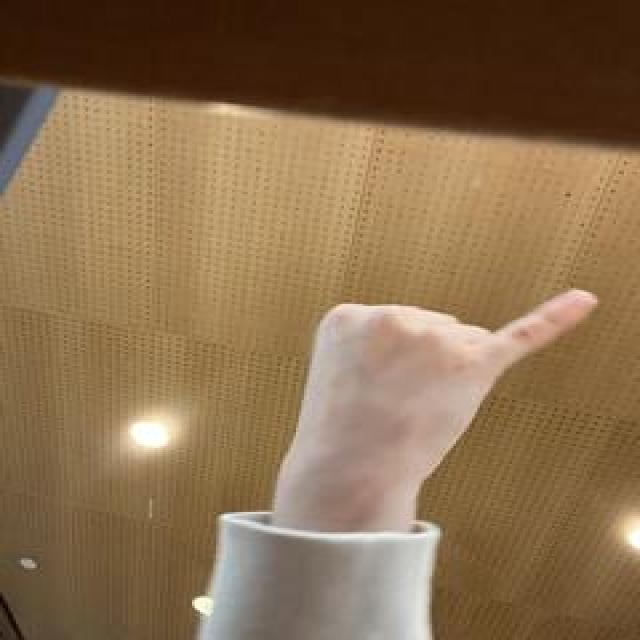I: (263, 283, 606, 489)
